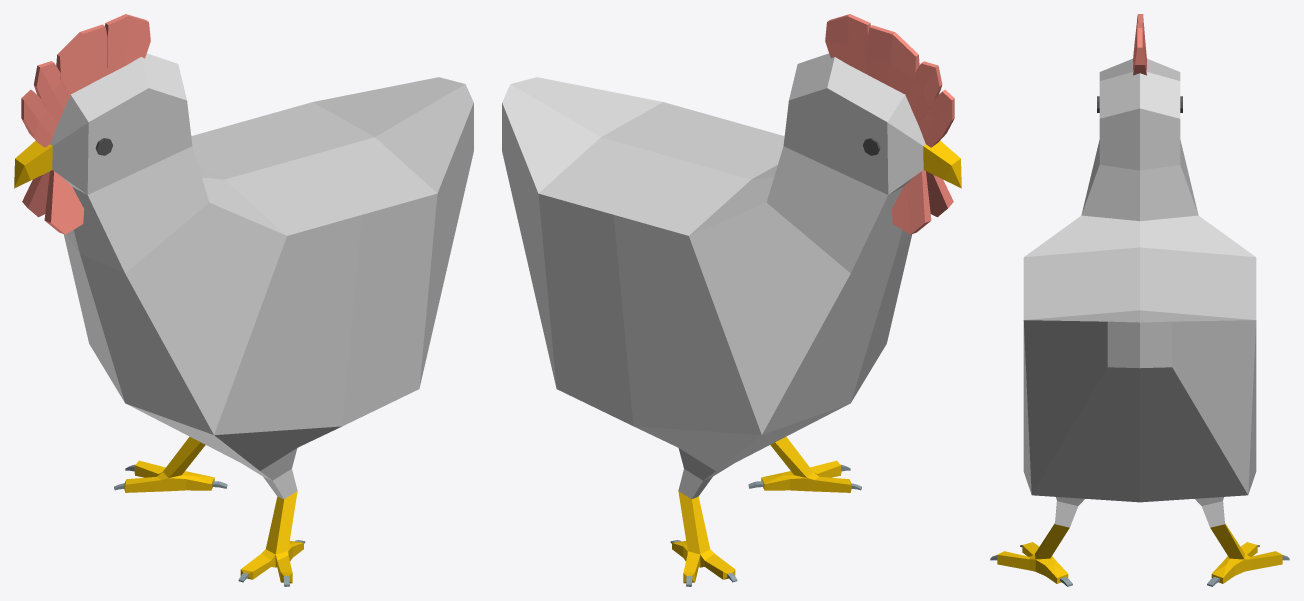
File: chicken_from_poly_by_google(2).glb
The picture shows the model from 3 angles, left to right: view 1: azimuth 30°, elevation 25°; view 2: azimuth 150°, elevation 25°; view 3: azimuth 270°, elevation 25°; orthographic projection. The views are drawn at different scales.
Visible parts, largest first — view 1: Object_5, Object_7, Object_4; view 2: Object_5, Object_7, Object_4; view 3: Object_5, Object_4, Object_7.
Part boxes in pixels (x1,y1,x2,y2): Object_5: (50, 53, 473, 499); Object_7: (21, 14, 150, 234); Object_4: (14, 140, 303, 583); Object_5: (502, 53, 925, 499); Object_7: (825, 14, 954, 234); Object_4: (672, 140, 961, 583); Object_5: (1023, 58, 1256, 527); Object_4: (997, 523, 1282, 583); Object_7: (1133, 14, 1146, 75).
Size of the model in its own units: 167 by 189 by 103.
